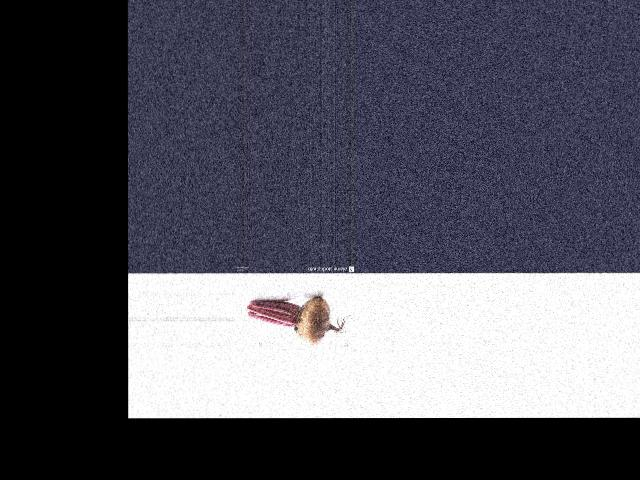beet: (246, 296, 351, 344)
